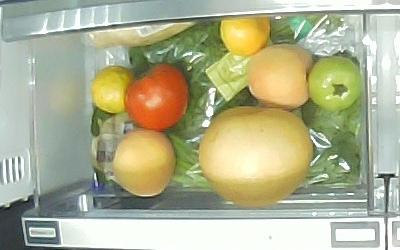peach: (248, 43, 314, 110), (113, 128, 175, 197)
pear: (199, 104, 313, 208)
tangerine: (91, 65, 135, 115), (219, 17, 270, 56)
tomato: (126, 64, 190, 132), (309, 56, 362, 109)
